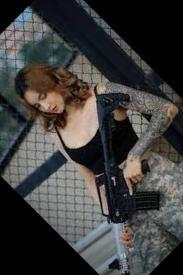larga: (93, 92, 161, 275)
